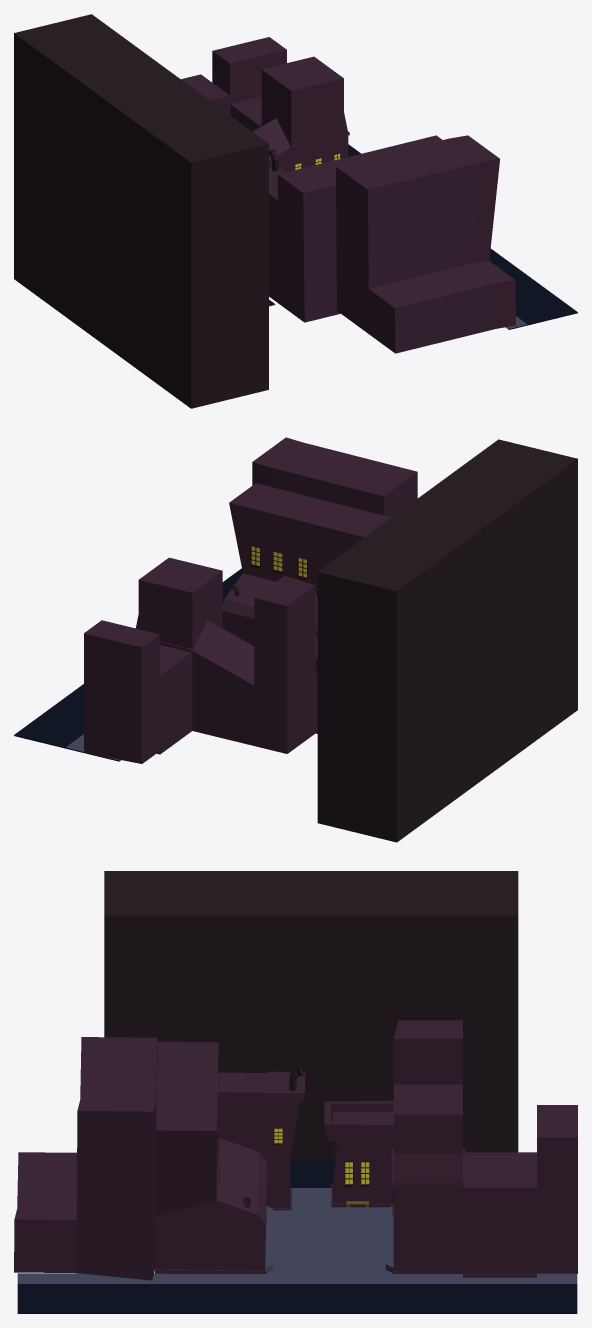
Rendered from SecondScene.fbx.
3 views of the same model, one above another, from view 1: azimuth 30°, elevation 25°; view 2: azimuth 150°, elevation 25°; view 3: azimuth 270°, elevation 25° (orthographic). The views are drawn at different scales.
Parts seen in each view (by area): view 1: Cube.003, Cube.002, Cube.001, Cube; view 2: Cube.003, Cube.001, Cube.002, Cube; view 3: Cube.003, Cube.002, Cube.001, Cube.
Part boxes in pixels (x1,y1,x2,y2): Cube.003: (14, 14, 268, 408); Cube.002: (269, 135, 515, 353); Cube.001: (181, 37, 349, 172); Cube: (269, 144, 577, 329); Cube.003: (317, 439, 577, 842); Cube.001: (84, 557, 317, 763); Cube.002: (222, 437, 417, 645); Cube: (14, 568, 242, 761); Cube.003: (104, 871, 518, 1159); Cube.002: (14, 1037, 305, 1280); Cube.001: (324, 1020, 577, 1277); Cube: (17, 1160, 577, 1313).
Bounding box in the file's own units: 6055 × 4071 × 7244.
